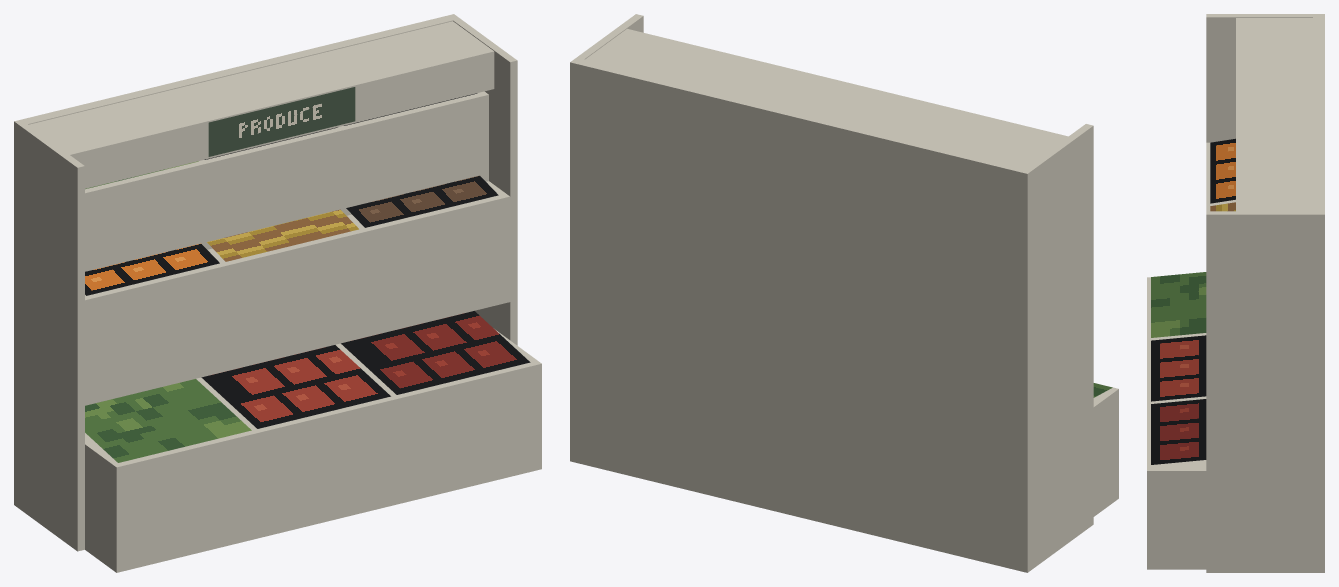
Rendered from COM_Produce_WallCase.glb.
3 renders of one model, left to right at view 1: azimuth 30°, elevation 25°; view 2: azimuth 150°, elevation 25°; view 3: azimuth 270°, elevation 25°, orthographic. The views are drawn at different scales.
Parts seen in each view (by area): view 1: COM_Produce_WallCase_Mesh; view 2: COM_Produce_WallCase_Mesh; view 3: COM_Produce_WallCase_Mesh.
Boxes of the visible parts, x1,y1,x2,y2 form: COM_Produce_WallCase_Mesh: (14,14,541,572); COM_Produce_WallCase_Mesh: (570,14,1118,572); COM_Produce_WallCase_Mesh: (1147,14,1324,572).
Size of what is drawn, in the model's own units: 2.4 by 2 by 0.9.
2 materials, 2 textured.
